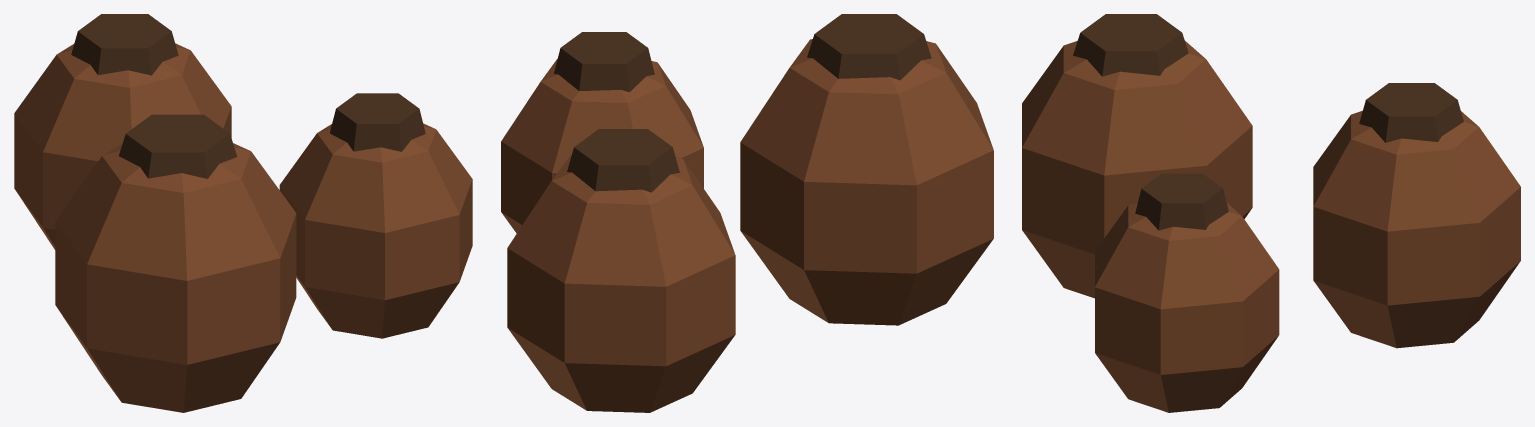
The model's file is br_jars.glb.
3 renders of one model, left to right at view 1: azimuth 30°, elevation 25°; view 2: azimuth 150°, elevation 25°; view 3: azimuth 270°, elevation 25°, orthographic. The views are drawn at different scales.
Parts seen in each view (by area): view 1: br_jars; view 2: br_jars; view 3: br_jars.
Boxes of the visible parts, x1=… form: br_jars: x1=14, y1=14, x2=472, y2=412; br_jars: x1=501, y1=14, x2=993, y2=412; br_jars: x1=1022, y1=14, x2=1520, y2=412.
Bounding box in the file's own units: 0.9172 × 0.58 × 0.9782.
